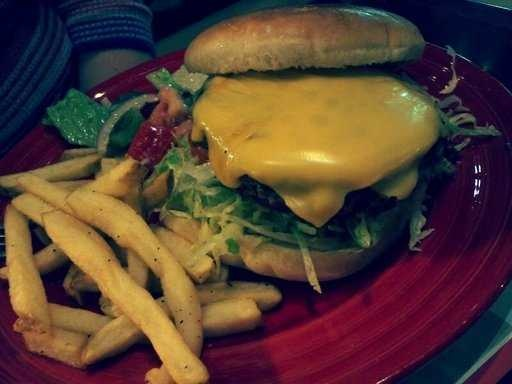hamburger: (156, 40, 453, 291)
